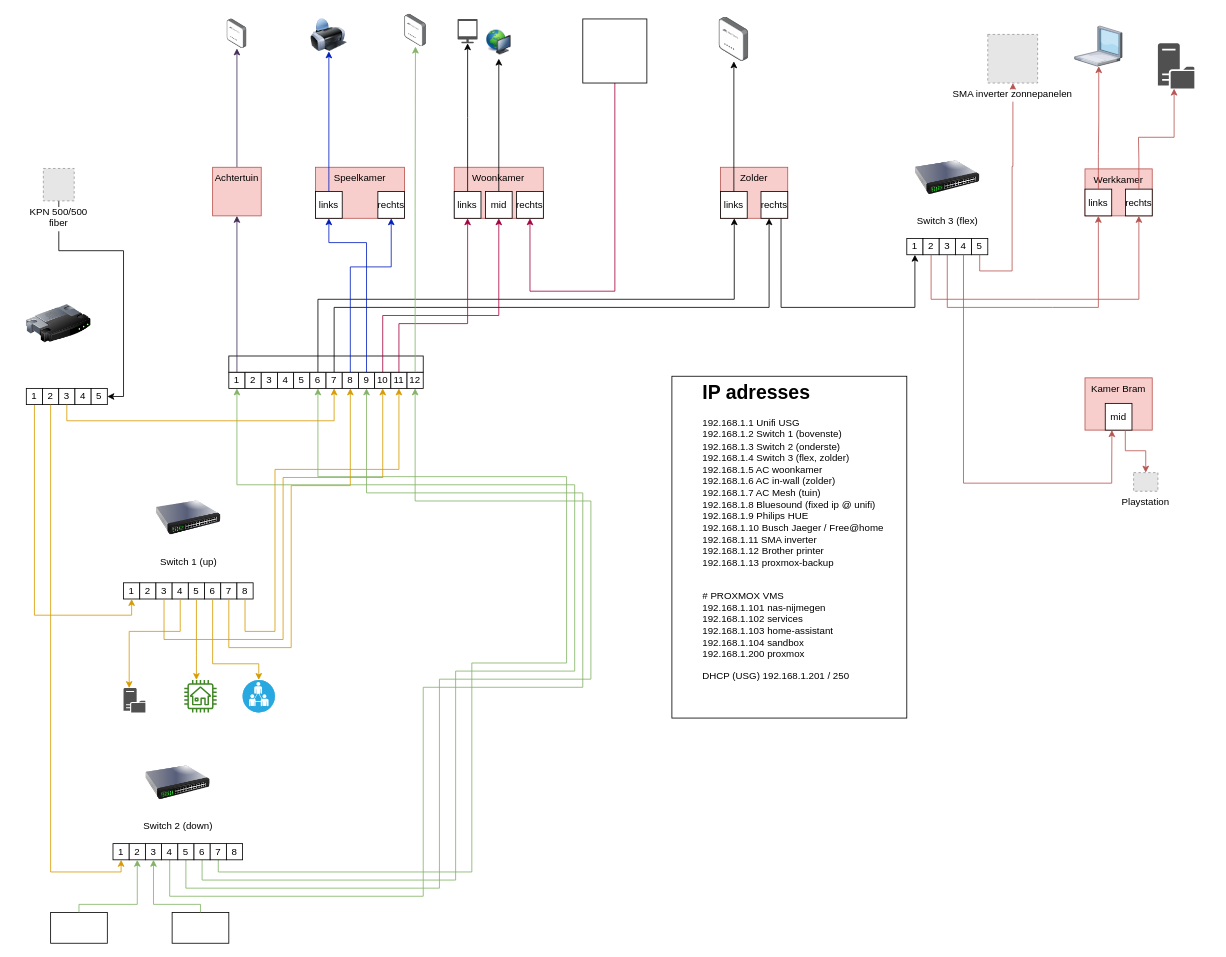
The diagram is 1226 pixels wide and 957 high, and some of its shapes have lost their labels. Grey dashed boxes stand in for pictures. Here are the shapes that lost their labels. From the top down, the centre of each, then its label:
the point at 236,33: Access point mesh
the point at 328,35: Broher printer
the point at 415,30: Access point woonkamer
the point at 467,31: LG TV
the point at 498,42: TV Decoder
the point at 614,50: Blauwe UTP stekker in meterkast (niet in gebruik)
the point at 733,39: Access point zolder
the point at 1098,46: Werkplek zolder
the point at 1175,65: Proxmox-backup
the point at 58,323: USG Cloud Gateway
the point at 325,363: patchpaneel
the point at 134,700: PROXMOX
the point at 200,696: Busch Jaeger
the point at 258,695: Philips HUE
the point at 78,927: BlueCurrent Blauwe kast
the point at 200,927: BlueCurrent router
